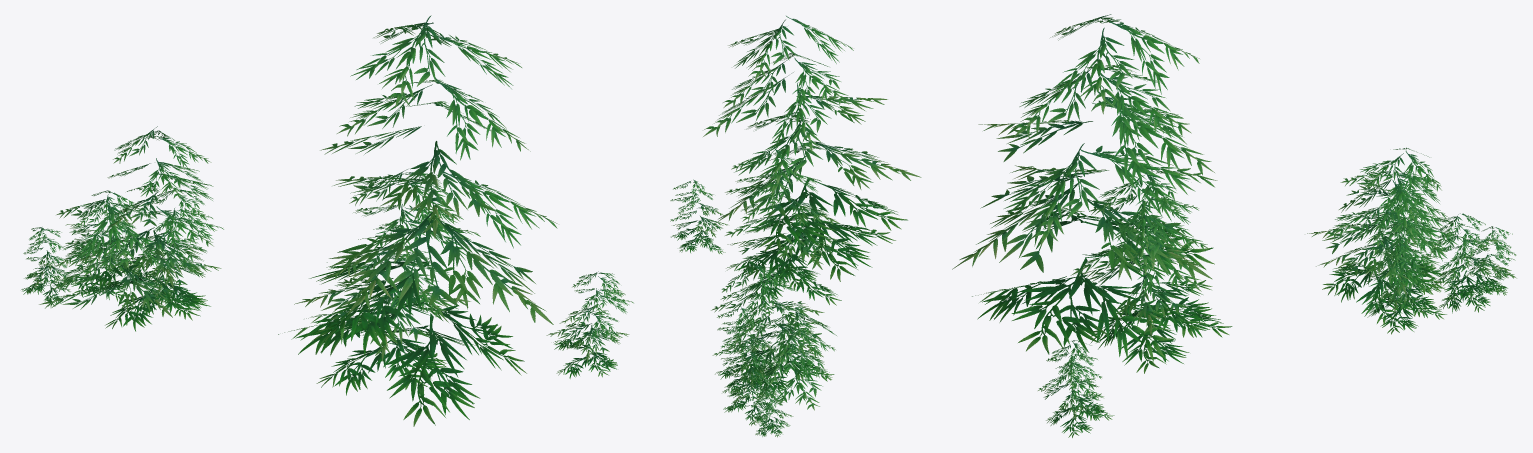
File: Area_06_21.fbx
3 renders of one model, left to right at view 1: azimuth 30°, elevation 25°; view 2: azimuth 150°, elevation 25°; view 3: azimuth 270°, elevation 25°, orthographic. The views are drawn at different scales.
Parts seen in each view (by area): view 1: Area_06_21; view 2: Area_06_21; view 3: Area_06_21.
Boxes of the visible parts, x1,y1,x2,y2 form: Area_06_21: [21, 15, 633, 426]; Area_06_21: [670, 16, 921, 437]; Area_06_21: [952, 14, 1516, 437].
Bounding box in the file's own units: 3141 × 2824 × 4027.
